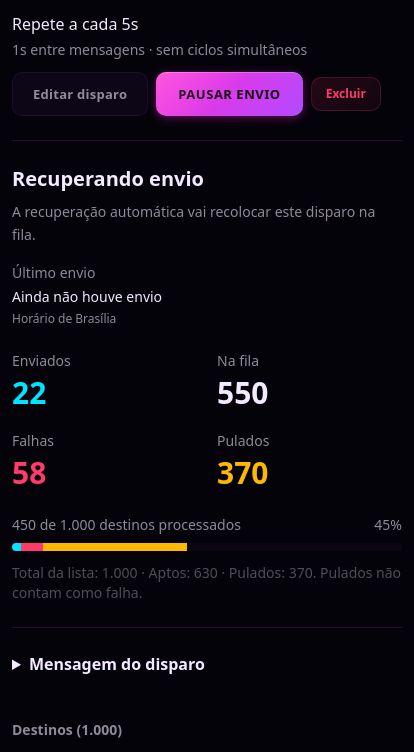
Scenario: acompanhamento do disparo › erro ao pausar fica visível e permite tentar novamente
Click the button "Pausar envio" at (230, 94), box 156,72 -> 303,116
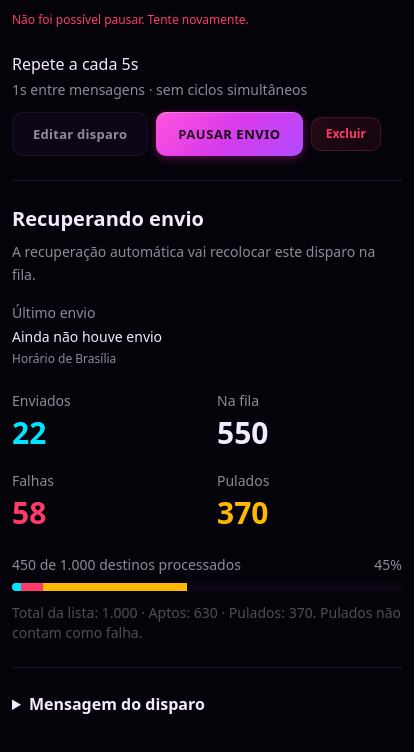
Expected: the button "Pausar envio" is enabled, 156,112 -> 303,156
Now the message shows "Não foi possível pausar", box 12,11 -> 249,28
